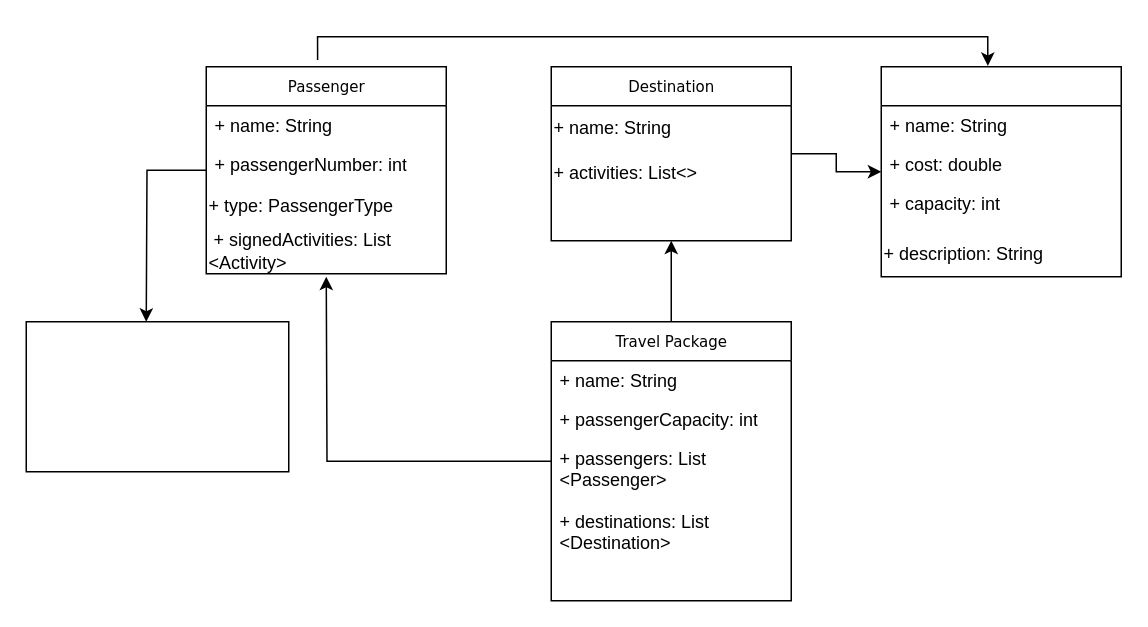
This 1148x627 diagram has some shape labels left out. The box of each missing label's shape, as (x1, y1, x2, y2) in pixels:
<<ENUM>> PassengerType STANDARD GOLD PREMIUM: (25, 320, 289, 472)
Activity: (880, 65, 1121, 277)
